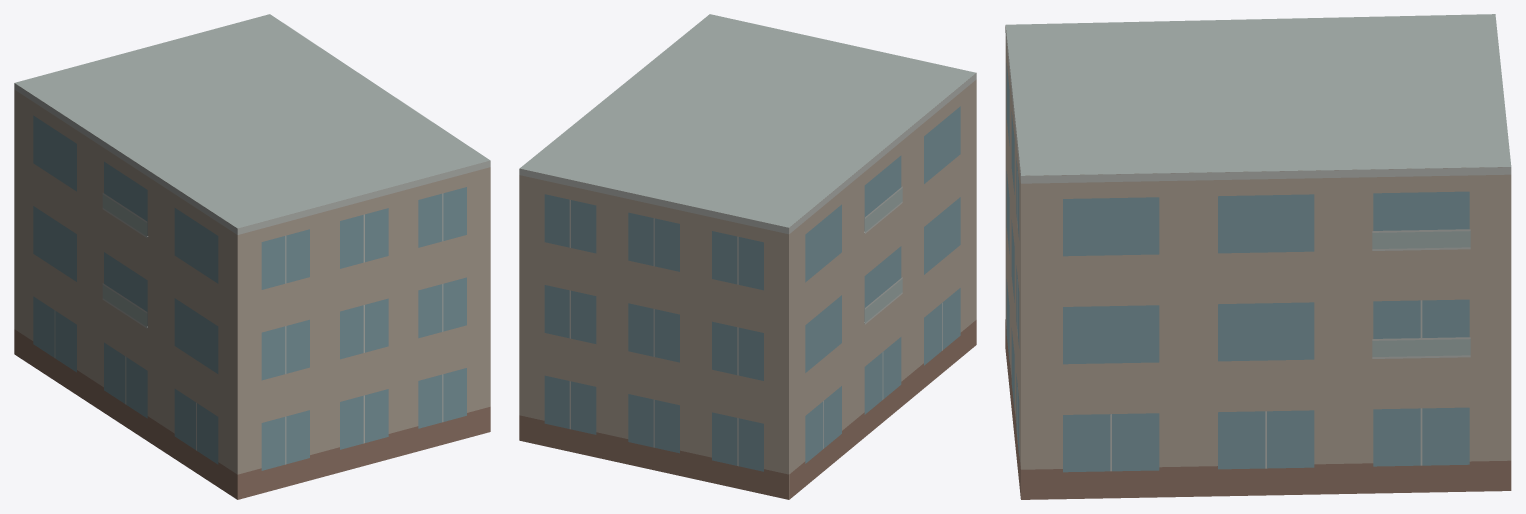
The model's file is survey-upis-32737441.glb.
3 renders of one model, left to right at view 1: azimuth 30°, elevation 25°; view 2: azimuth 150°, elevation 25°; view 3: azimuth 270°, elevation 25°, orthographic. The views are drawn at different scales.
Visible parts, largest first — view 1: survey-upis-32737441.tmp; view 2: survey-upis-32737441.tmp; view 3: survey-upis-32737441.tmp.
Part boxes in pixels (<box>): survey-upis-32737441.tmp: <box>14,14,490,499</box>; survey-upis-32737441.tmp: <box>519,14,976,499</box>; survey-upis-32737441.tmp: <box>1005,14,1511,499</box>.
Bounding box in the file's own units: 10.83 × 10.1 × 14.3.
